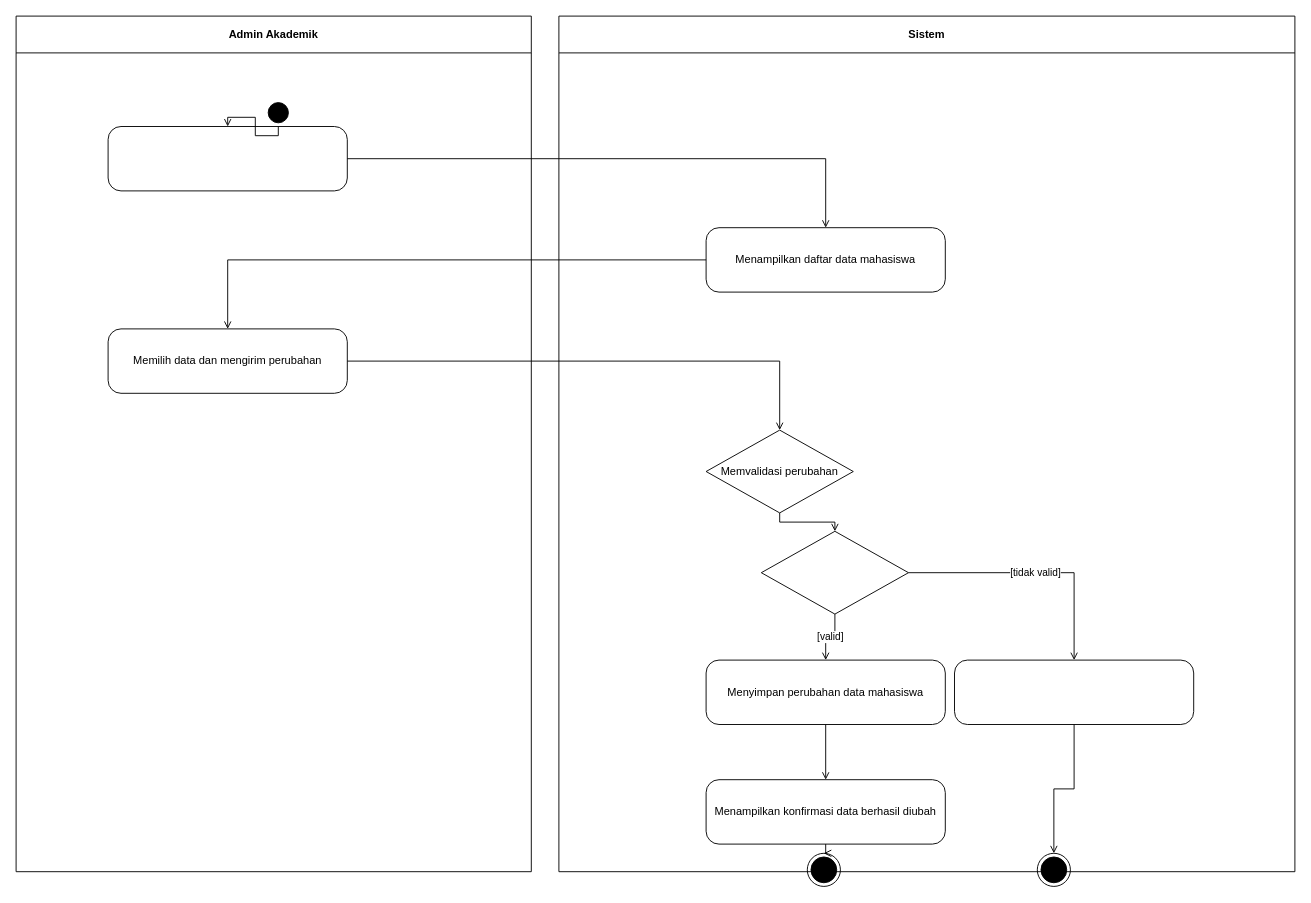
Image size: 1311x903. Some labels were removed from this diagram. The centre of each missing label's shape, as x and y in pixels:
Memilih Ubah pada Kelola Data Mahasiswa: point 227,158
Menolak perubahan dan menampilkan alasan: point 1074,691
Perubahan valid?: point 834,572
